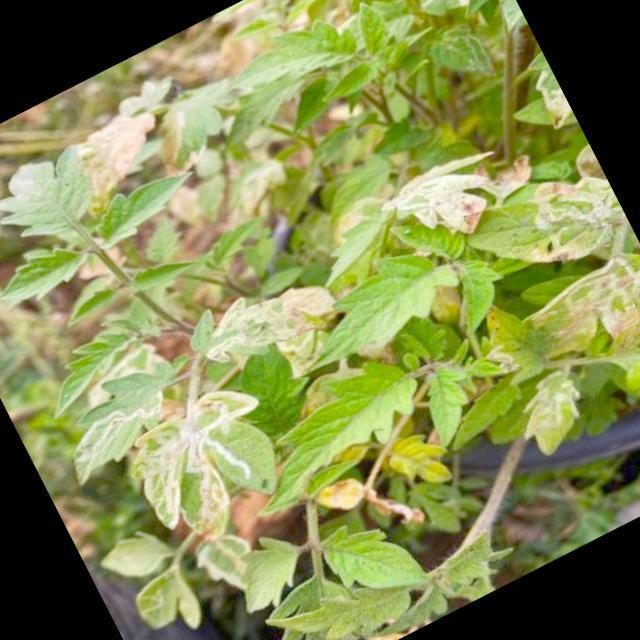Tomato target spot leaf: (109, 374, 308, 564), (456, 152, 634, 301), (175, 252, 348, 386), (42, 349, 205, 488), (510, 237, 640, 371), (375, 144, 508, 264), (302, 184, 428, 285), (501, 364, 602, 464), (188, 518, 272, 604), (126, 561, 209, 640), (518, 50, 578, 132), (606, 319, 640, 428)
